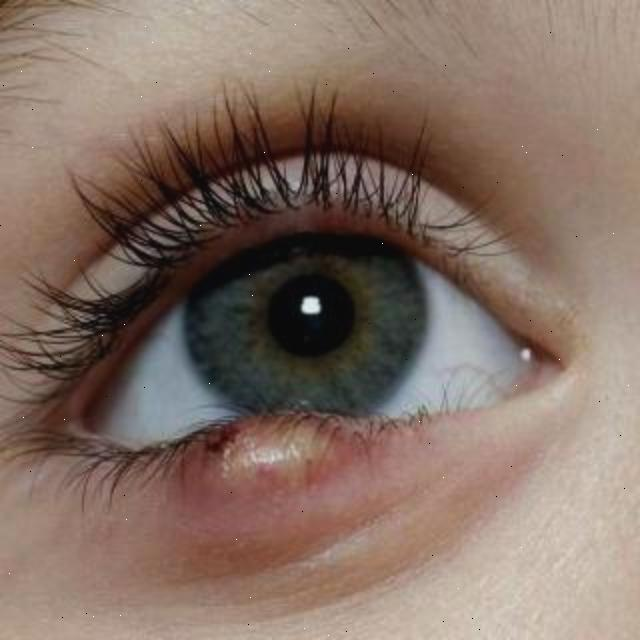Stye: (143, 357, 390, 560)
